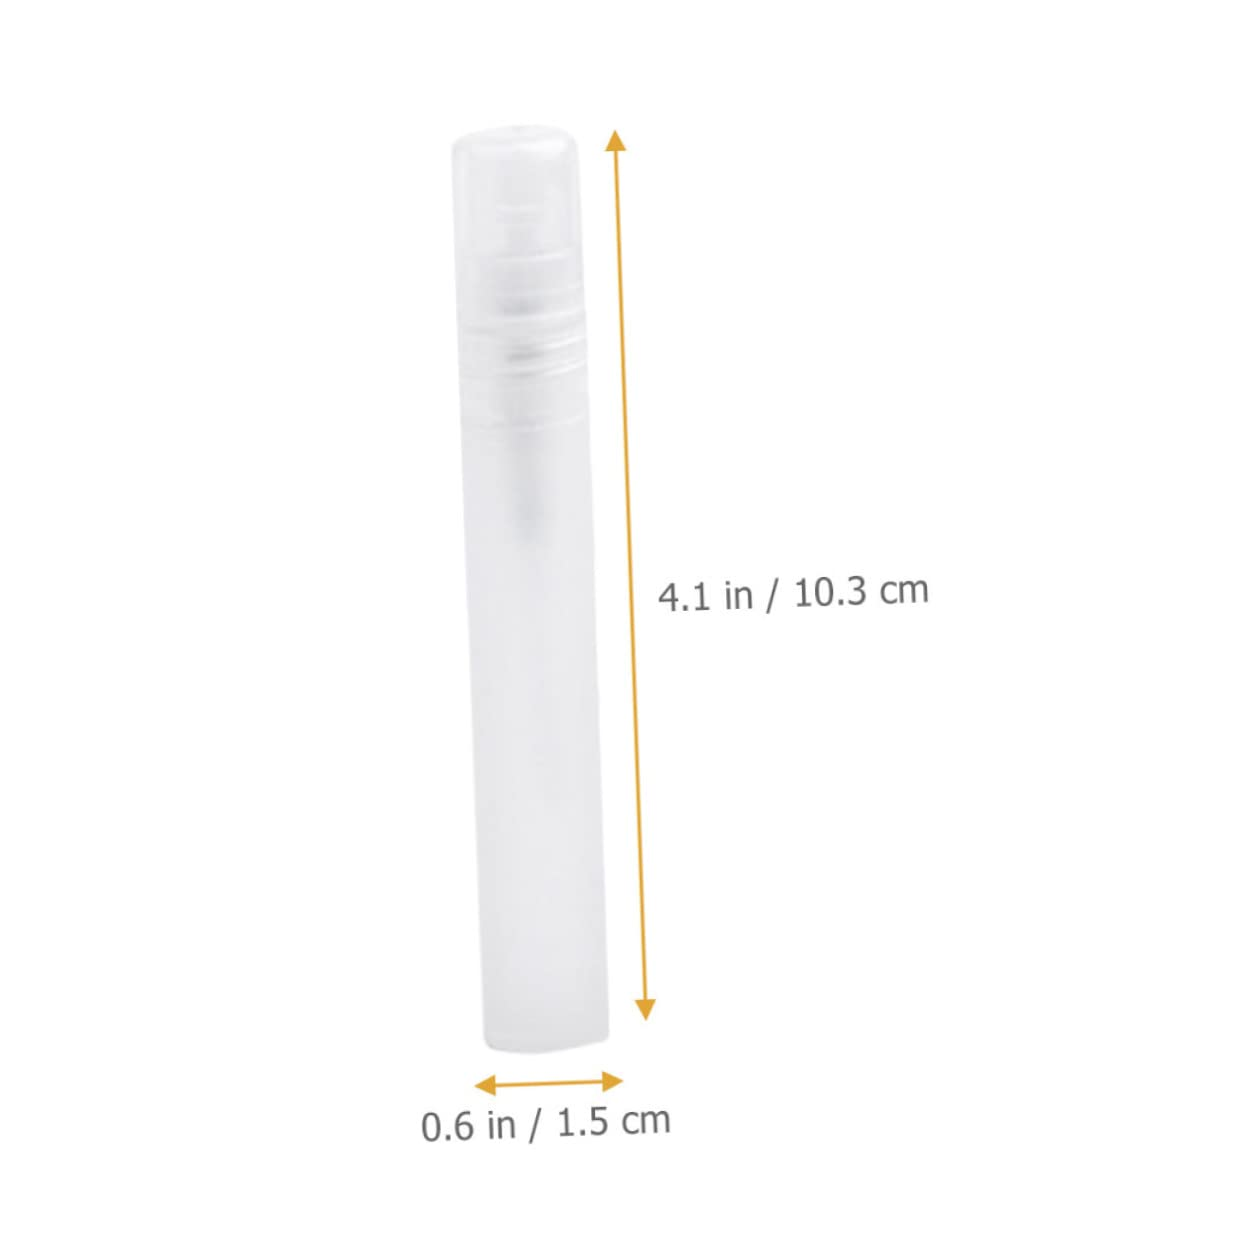+: (474, 1070, 624, 1097)
0.6: (421, 1110, 475, 1142)
10.3: (795, 575, 866, 607)
4.1: (658, 581, 711, 612)
cm: (880, 578, 929, 605)
in/: (488, 1107, 542, 1144)
